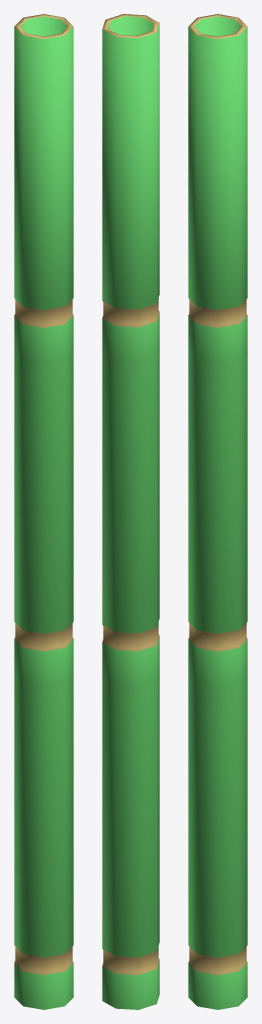
Rendered from Bambu_Curto.fbx.
The picture shows the model from 3 angles, left to right: view 1: azimuth 90°, elevation 25°; view 2: azimuth 150°, elevation 25°; view 3: azimuth 270°, elevation 25°; orthographic projection.
Visible parts, largest first — view 1: Bambu_Curto; view 2: Bambu_Curto; view 3: Bambu_Curto.
Part boxes in pixels (x1,y1,x2,y2): Bambu_Curto: (14, 14, 73, 1009); Bambu_Curto: (102, 14, 159, 1009); Bambu_Curto: (188, 14, 247, 1009).
Size of the model in its own units: 0.0744 by 0.0744 by 1.34.
